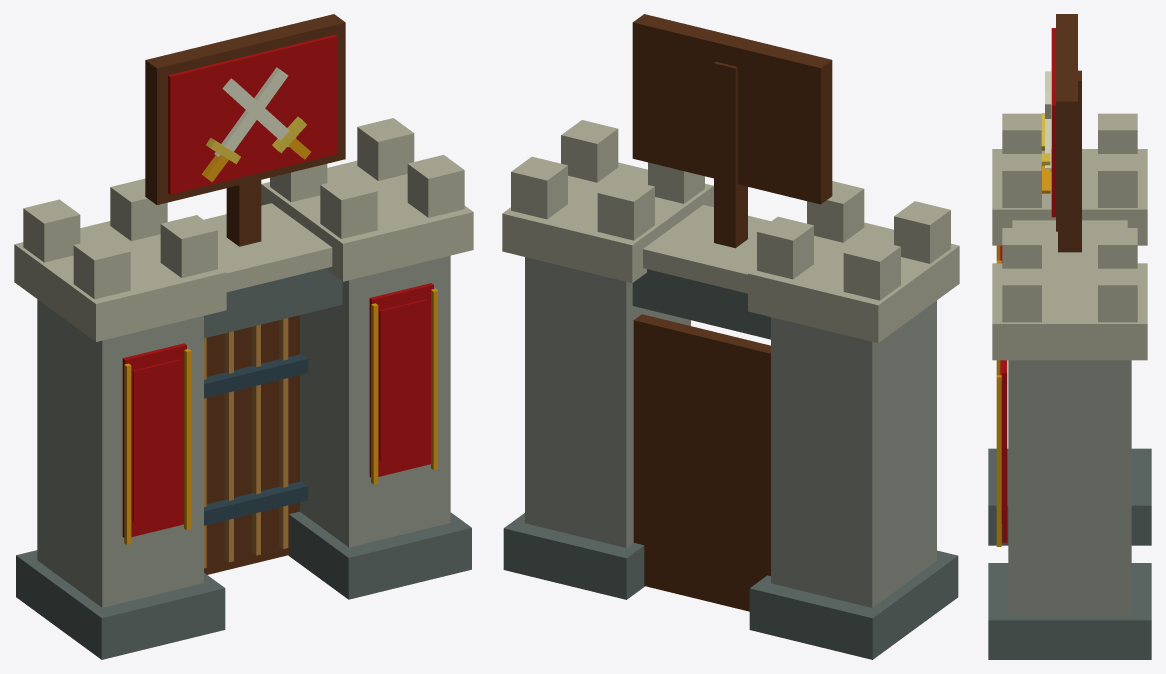
Rendered from enemy_gate.fbx.
The picture shows the model from 3 angles, left to right: view 1: azimuth 30°, elevation 25°; view 2: azimuth 150°, elevation 25°; view 3: azimuth 270°, elevation 25°; orthographic projection. The views are drawn at different scales.
Parts seen in each view (by area): view 1: enemy_gate; view 2: enemy_gate; view 3: enemy_gate.
Part boxes in pixels (x1,y1,x2,y2): enemy_gate: [14, 14, 473, 659]; enemy_gate: [502, 14, 959, 659]; enemy_gate: [988, 14, 1151, 659].
Size of the model in its own units: 2.08 by 2.86 by 0.82.
